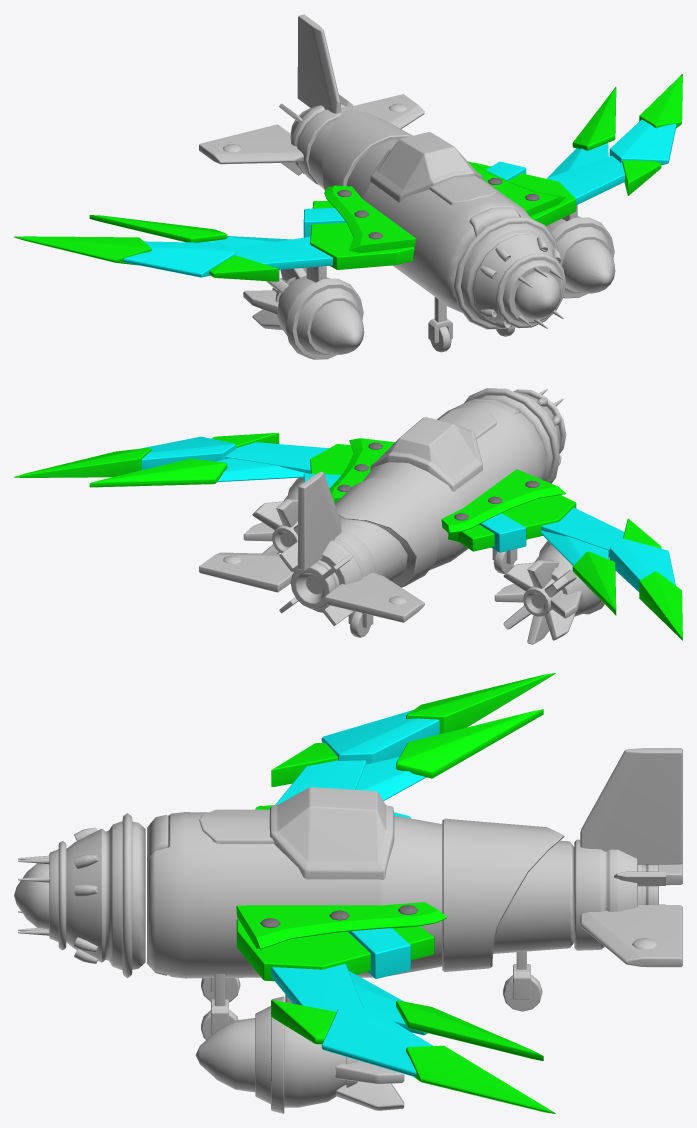
3 views of the same model, one above another, from view 1: azimuth 30°, elevation 25°; view 2: azimuth 150°, elevation 25°; view 3: azimuth 270°, elevation 25° (orthographic). The views are drawn at different scales.
Visible parts, largest first — view 1: Body20_A, Wing20_R, Wing20_L, Propeller20, Fin20, Spurt20_R, Spurt20_L, Body20_C; view 2: Body20_A, Wing20_R, Fin20, Wing20_L, Spurt20_R, Propeller20, Spurt20_L, Body20_B, Body20_C; view 3: Body20_A, Wing20_L, Fin20, Wing20_R, Propeller20, Spurt20_L, Body20_B, Body20_D.
Boxes of the visible parts, x1=… form: Body20_A: x1=308, y1=110, x2=530, y2=312; Wing20_R: x1=14, y1=185, x2=416, y2=281; Wing20_L: x1=467, y1=73, x2=682, y2=225; Propeller20: x1=454, y1=217, x2=566, y2=329; Fin20: x1=199, y1=14, x2=424, y2=184; Spurt20_R: x1=243, y1=266, x2=364, y2=359; Spurt20_L: x1=546, y1=205, x2=615, y2=298; Body20_C: x1=428, y1=297, x2=452, y2=352; Body20_A: x1=335, y1=398, x2=546, y2=587; Wing20_R: x1=441, y1=469, x2=682, y2=640; Fin20: x1=199, y1=471, x2=424, y2=625; Wing20_L: x1=14, y1=433, x2=394, y2=503; Spurt20_R: x1=494, y1=540, x2=609, y2=644; Propeller20: x1=464, y1=388, x2=566, y2=483; Spurt20_L: x1=243, y1=477, x2=303, y2=553; Body20_B: x1=348, y1=611, x2=373, y2=637; Body20_C: x1=492, y1=549, x2=517, y2=573; Body20_A: x1=147, y1=787, x2=574, y2=978; Wing20_L: x1=236, y1=902, x2=555, y2=1113; Fin20: x1=574, y1=748, x2=682, y2=967; Wing20_R: x1=255, y1=673, x2=555, y2=818; Propeller20: x1=14, y1=813, x2=145, y2=978; Spurt20_L: x1=195, y1=994, x2=404, y2=1113; Body20_B: x1=503, y1=951, x2=542, y2=1011; Body20_D: x1=201, y1=974, x2=238, y2=1039.
Bounding box in the file's own units: 24.52 × 7.17 × 15.74.
